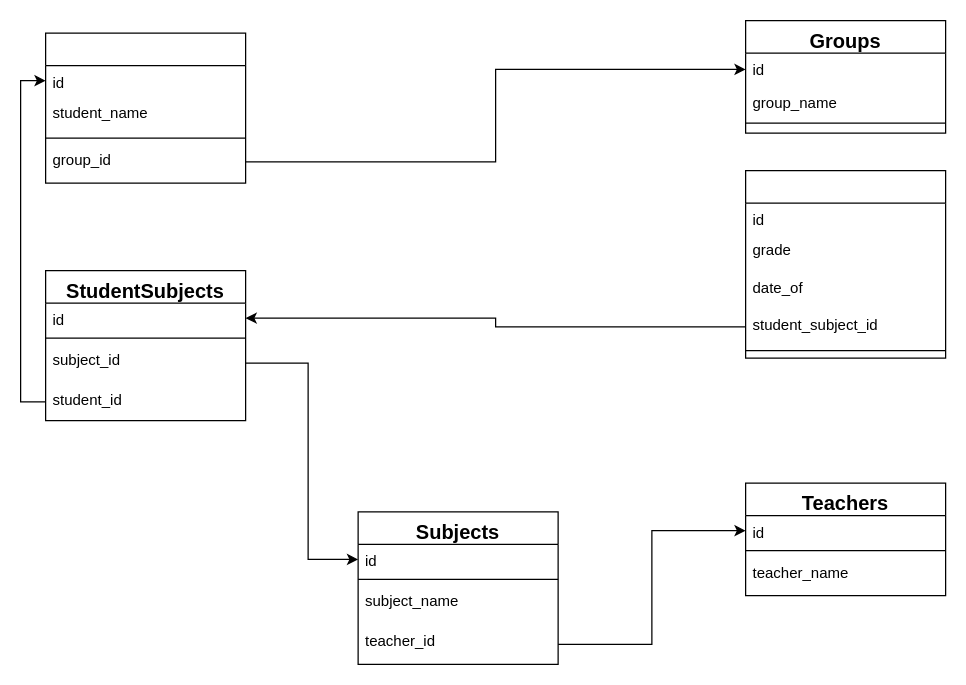
This 966x685 diagram has some shape labels left out. Each missing label, with the box of its shape:
Grades: (744, 169, 946, 358)
Students: (44, 32, 246, 183)
